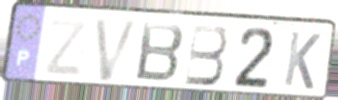2: (231, 25, 277, 92)
B: (133, 20, 187, 85), (183, 23, 230, 88)
K: (281, 29, 323, 92)
V: (92, 17, 143, 84)
Z: (42, 16, 91, 79)
